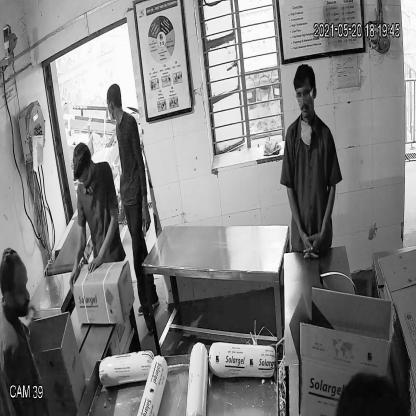goggles: (294, 86, 316, 104)
